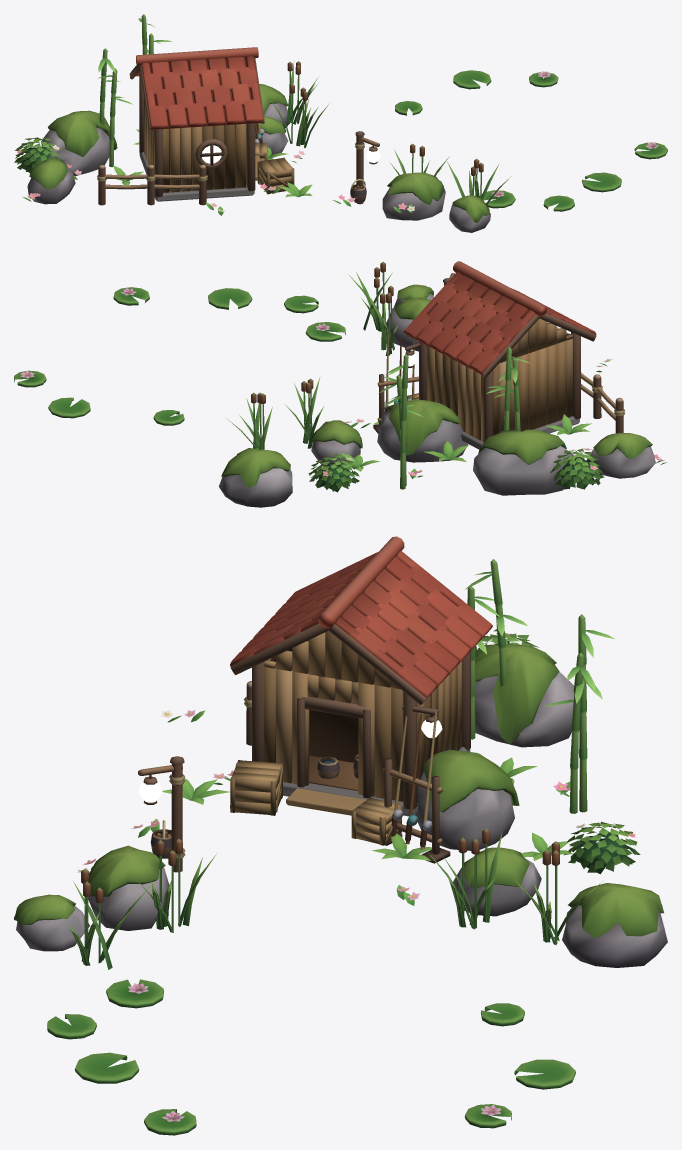
The model's file is poi-pier-1.glb.
The picture shows the model from 3 angles, top to bottom: view 1: azimuth 30°, elevation 25°; view 2: azimuth 150°, elevation 25°; view 3: azimuth 270°, elevation 25°; orthographic projection. The views are drawn at different scales.
Parts seen in each view (by area): view 1: body, leaf, window_glow; view 2: body, leaf; view 3: body, leaf.
Boxes of the visible parts, x1=… form: body: x1=27, y1=14, x2=667, y2=232; leaf: x1=14, y1=18, x2=414, y2=215; window_glow: x1=202, y1=145, x2=380, y2=163; body: x1=14, y1=261, x2=655, y2=507; leaf: x1=308, y1=356, x2=666, y2=492; body: x1=14, y1=536, x2=667, y2=1135; leaf: x1=76, y1=571, x2=640, y2=905.
Size of the model in its own units: 14.89 by 4.16 by 9.25.
